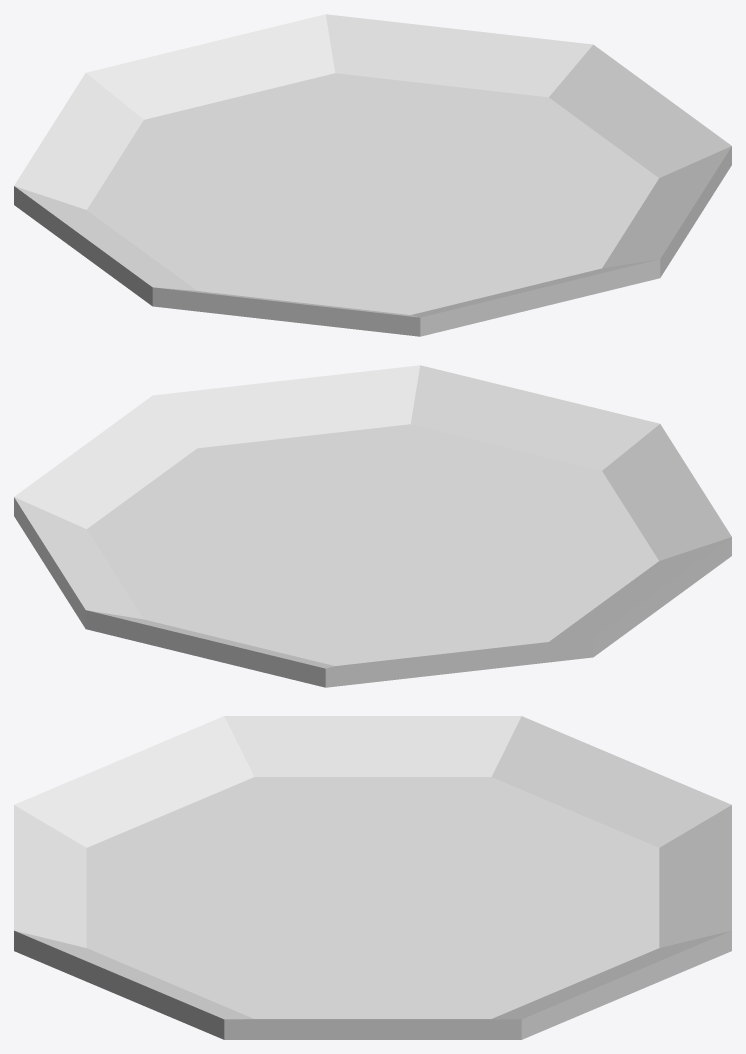
The model's file is Plate3_C1.fbx.
The picture shows the model from 3 angles, top to bottom: view 1: azimuth 30°, elevation 25°; view 2: azimuth 150°, elevation 25°; view 3: azimuth 270°, elevation 25°; orthographic projection. The views are drawn at different scales.
Parts seen in each view (by area): view 1: Plate3_C1; view 2: Plate3_C1; view 3: Plate3_C1.
Boxes of the visible parts, x1,y1,x2,y2 form: Plate3_C1: [14, 14, 731, 336]; Plate3_C1: [14, 365, 731, 687]; Plate3_C1: [14, 716, 731, 1039].
Size of the model in its own units: 24.17 by 1.89 by 24.17.
